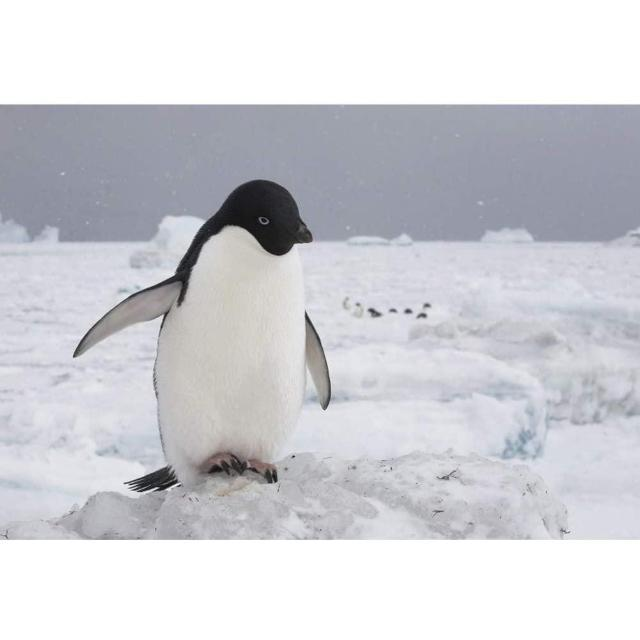penguin: (70, 176, 334, 494)
